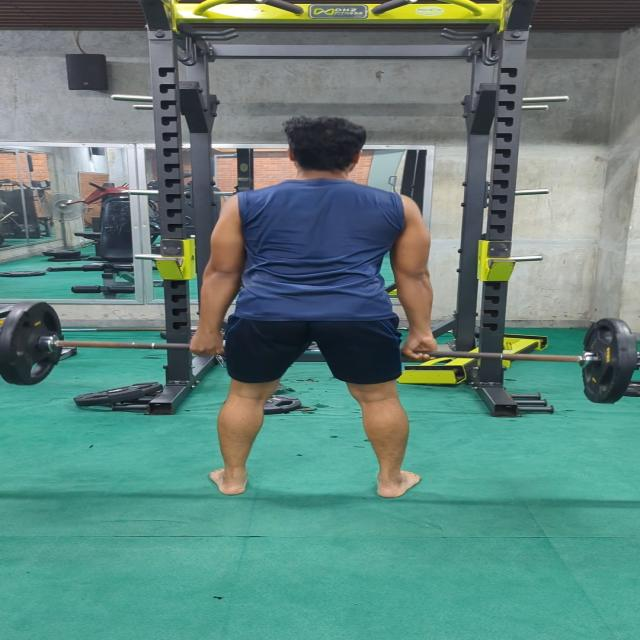Normal_Deadlifts: (187, 115, 440, 499)
